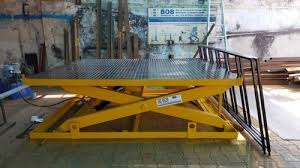Scissor Lift: (21, 55, 245, 143)
